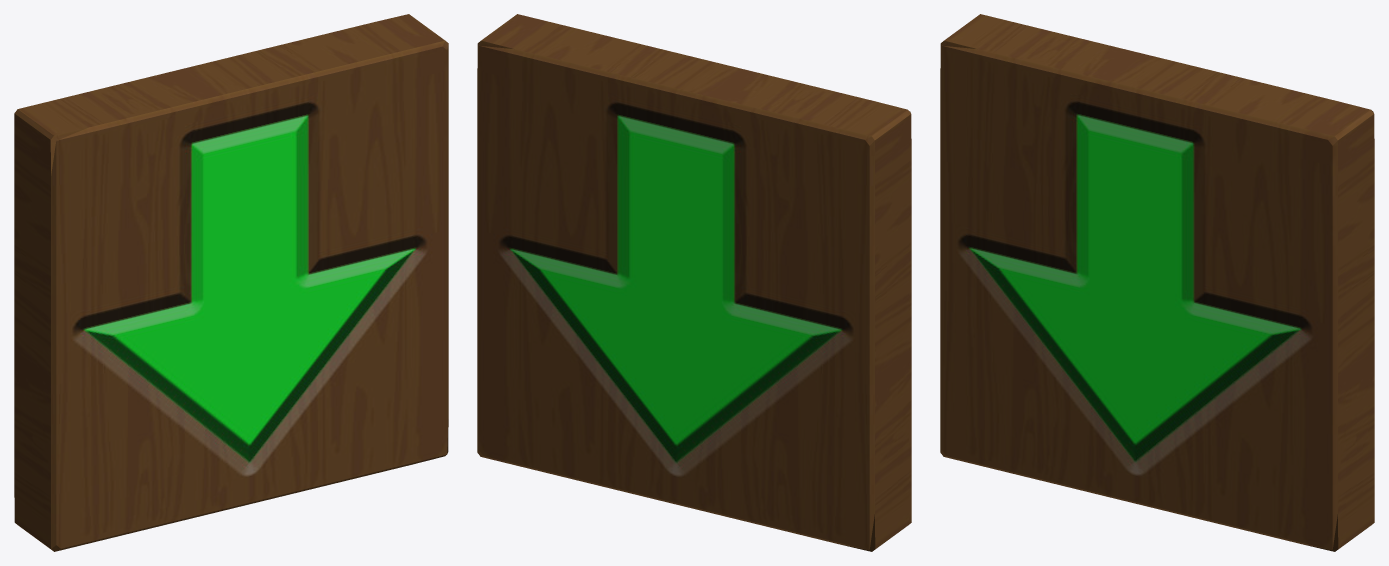
The model's file is button_moving_part.fbx.
3 renders of one model, left to right at view 1: azimuth 30°, elevation 25°; view 2: azimuth 150°, elevation 25°; view 3: azimuth 330°, elevation 25°, orthographic.
Visible parts, largest first — view 1: _moving_part; view 2: _moving_part; view 3: _moving_part.
Part boxes in pixels (box(x1,y1,x2,y2)): _moving_part: box(14, 14, 448, 551); _moving_part: box(477, 14, 911, 551); _moving_part: box(940, 14, 1374, 551).
Size of the model in its own units: 0.8508 by 0.8508 by 0.1501.
